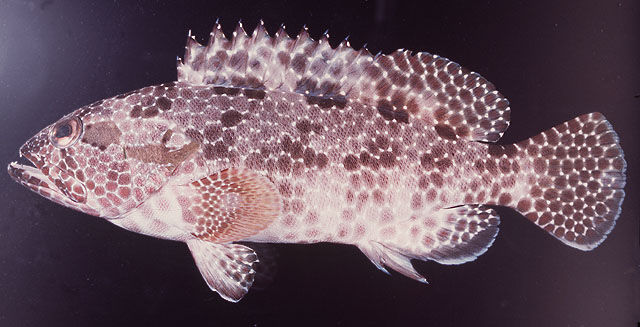fish: (7, 16, 627, 304)
